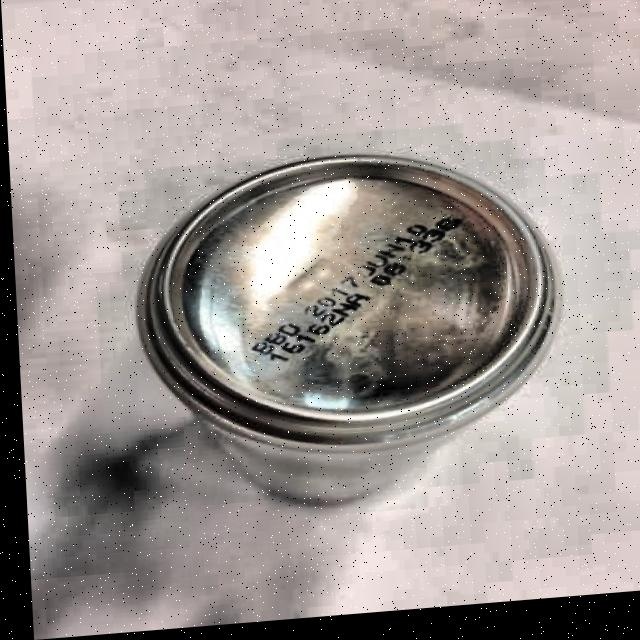metal: (123, 133, 579, 524)
